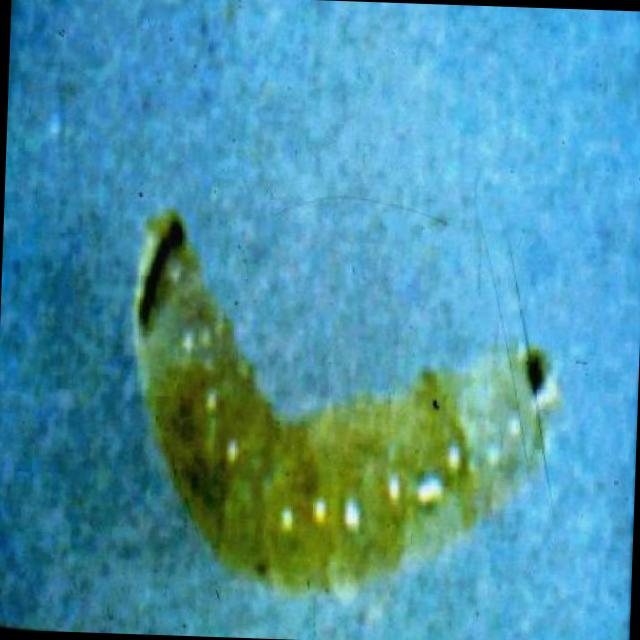whorl-maggot: (131, 206, 556, 601)
